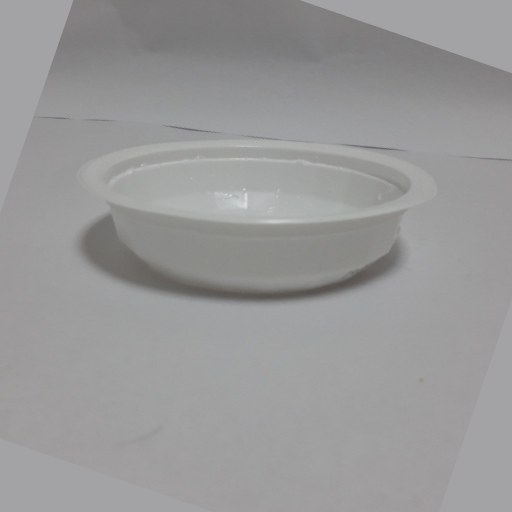Plastic_5: (72, 134, 437, 296)
